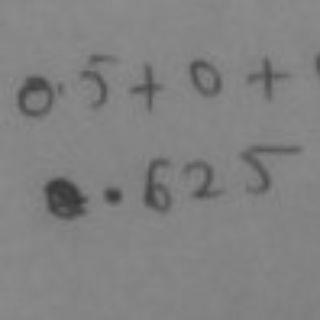.: (103, 182, 124, 206), (52, 73, 66, 95)
0: (183, 53, 226, 99), (17, 75, 55, 120)
2: (181, 150, 232, 202)
5: (236, 140, 305, 197), (78, 44, 115, 113)
6: (136, 149, 176, 215)
